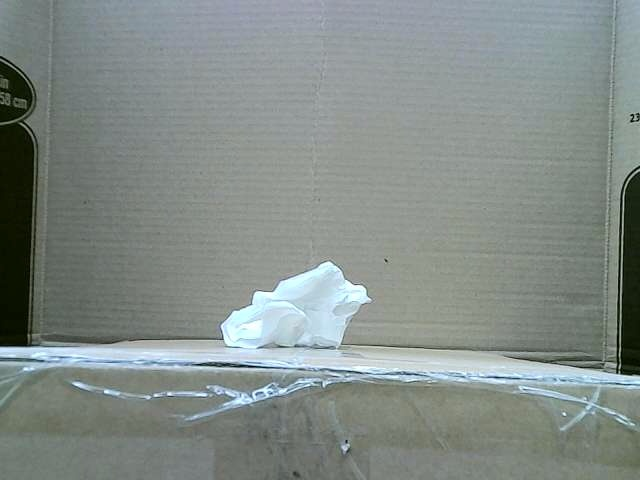Tissue: (220, 261, 372, 348)
